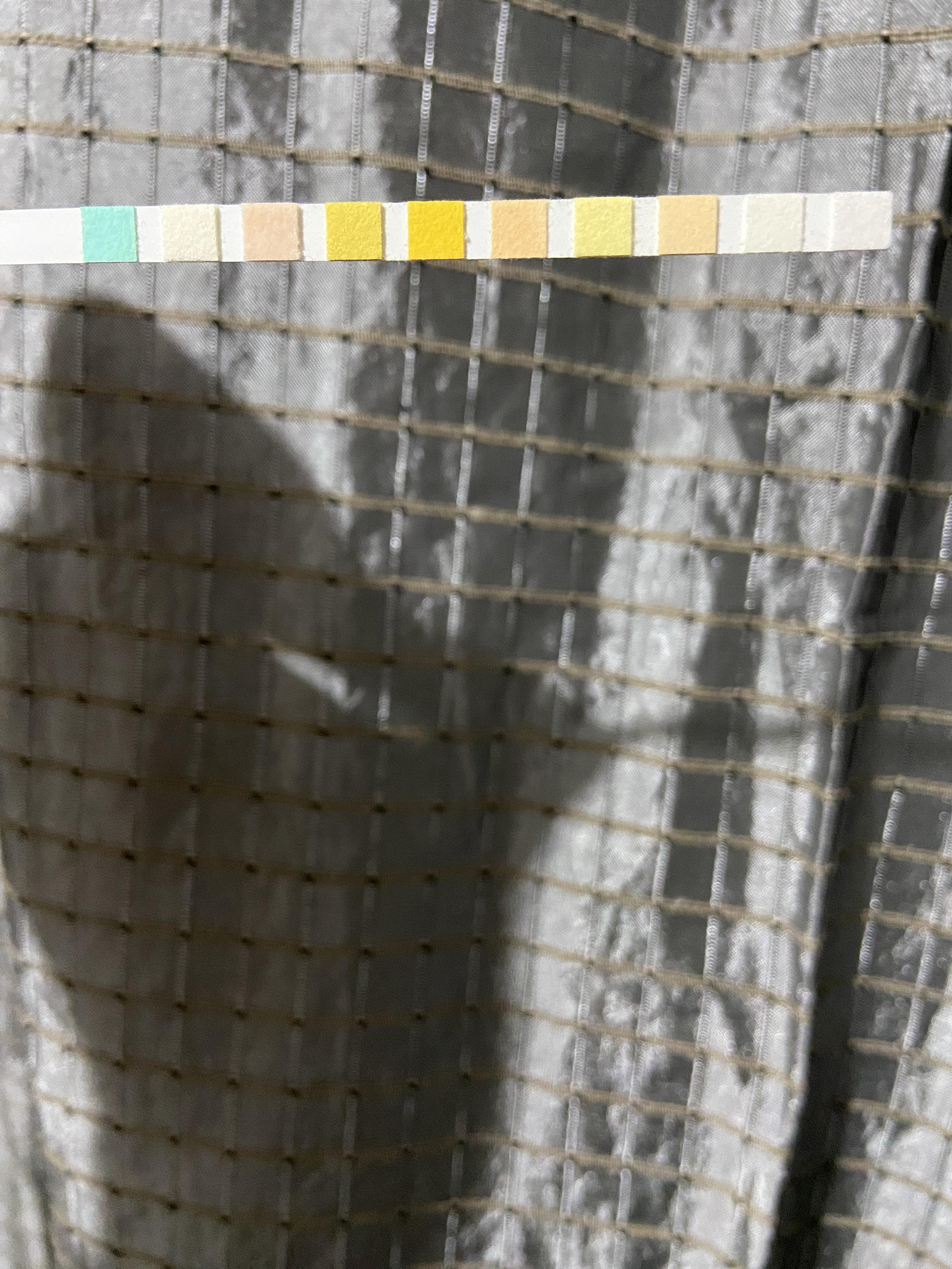Bilirubin: (164, 206, 218, 261)
Blood: (410, 203, 463, 259)
Glucose: (83, 207, 136, 262)
Ketone: (245, 206, 298, 261)
Leukocytes: (832, 194, 889, 249)
Nitrite: (747, 194, 800, 250)
Protein: (574, 198, 630, 255)
SpGravity: (328, 204, 381, 260)
Urobilinogen: (660, 196, 717, 255)
pH: (493, 203, 546, 257)
strip: (0, 192, 891, 267)
